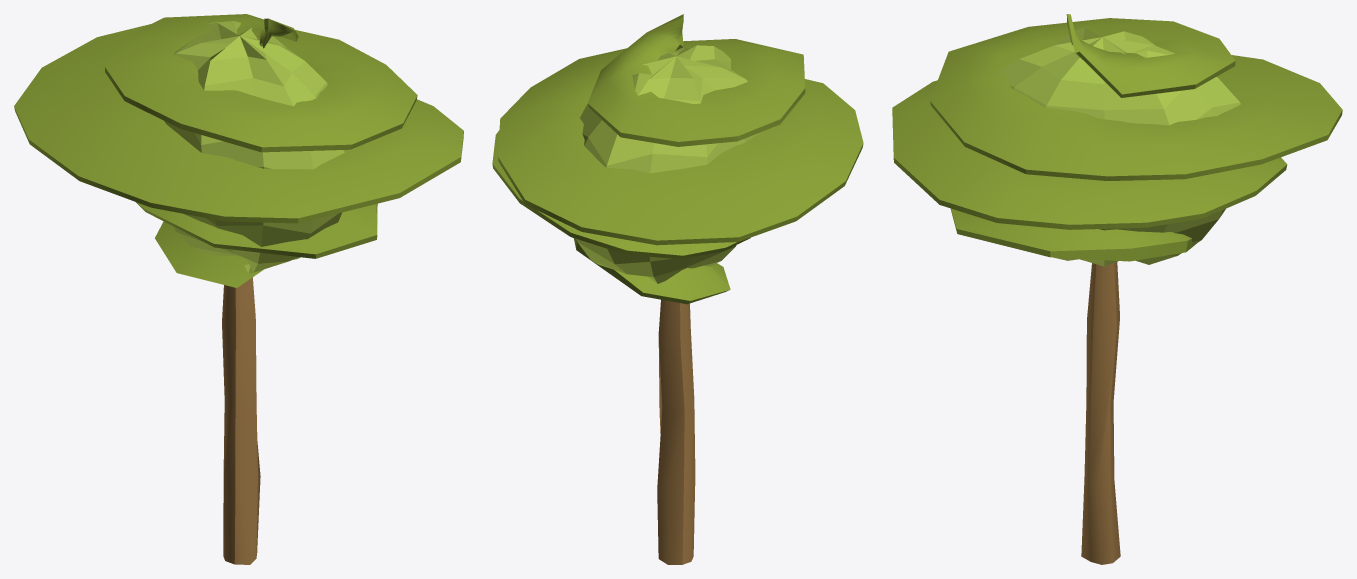
File: arbreRonde.fbx
3 views of the same model, side by side, from view 1: azimuth 30°, elevation 25°; view 2: azimuth 150°, elevation 25°; view 3: azimuth 270°, elevation 25° (orthographic). The views are drawn at different scales.
Visible parts, largest first — view 1: polySurface1; view 2: polySurface1; view 3: polySurface1.
Boxes of the visible parts, x1,y1,x2,y2 form: polySurface1: [14, 14, 463, 564]; polySurface1: [492, 14, 863, 564]; polySurface1: [892, 14, 1342, 564].
Size of the model in its own units: 197 by 299 by 223.
